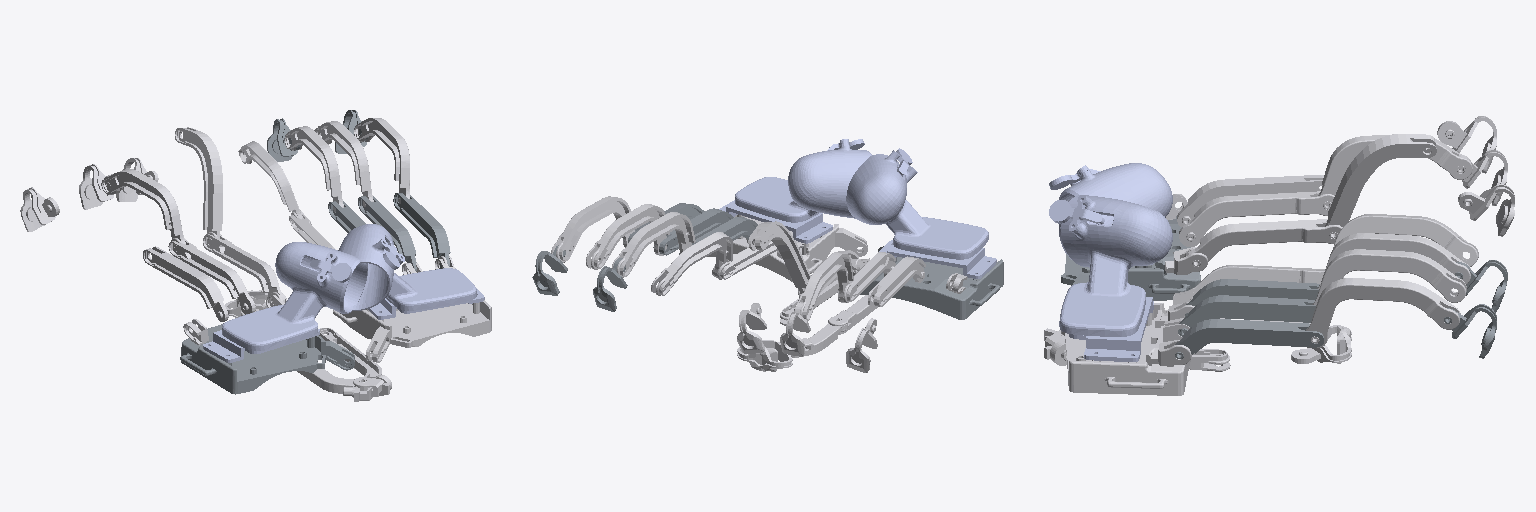
--- Render facts (derived) ---
3 views of the same robot in one strip: view 1: azimuth 30°, elevation 25°; view 2: azimuth 150°, elevation 25°; view 3: azimuth 270°, elevation 25° (orthographic).
Model skeleton_hands with 61 links and 60 joints (42 revolute, 18 fixed), rooted at base_link, posed all joints at 0.
Links seen in each view (by area): view 1: Lgamepadbase, Rgamepadbase, link_LeftSkeletonBase, link_RightSkeletonBase, link_LeftSkeletonIndex3, link_LeftSkeletonRing2, link_LeftSkeletonMiddle3, link_LeftSkeletonMiddle2, link_RightSkeletonPinky3, link_LeftSkeletonIndex2, link_RightSkeletonMiddle3, link_RightSkeletonPinky2 (+11 smaller); view 2: Lgamepadbase, Rgamepadbase, link_LeftSkeletonBase, link_RightSkeletonBase, link_RightSkeletonMiddle3, link_RightSkeletonIndex3, link_RightSkeletonRing3, link_LeftSkeletonIndex3, link_RightSkeletonPinky3, link_LeftSkeletonMiddle3, link_LeftSkeletonRing2, link_LeftSkeletonMiddle2 (+10 smaller); view 3: Rgamepadbase, link_RightSkeletonBase, Lgamepadbase, link_RightSkeletonPinky3, link_LeftSkeletonMiddle2, link_LeftSkeletonIndex3, link_RightSkeletonRing3, link_RightSkeletonPinky2, link_LeftSkeletonIndex2, link_RightSkeletonRing2, link_RightSkeletonIndex3, link_LeftSkeletonBase (+14 smaller).
Boxes of the visible links, box(x1,y1,x2,y2) form: Lgamepadbase: box(203, 242, 367, 362); Rgamepadbase: box(338, 224, 484, 319); link_LeftSkeletonBase: box(180, 324, 354, 394); link_RightSkeletonBase: box(333, 300, 491, 395); link_LeftSkeletonIndex3: box(175, 127, 222, 245); link_LeftSkeletonRing2: box(143, 246, 228, 321); link_LeftSkeletonMiddle3: box(101, 169, 185, 250); link_LeftSkeletonMiddle2: box(168, 238, 255, 314); link_RightSkeletonPinky3: box(354, 118, 409, 203); link_LeftSkeletonIndex2: box(203, 232, 284, 305); link_RightSkeletonMiddle3: box(284, 126, 343, 212); link_RightSkeletonPinky2: box(393, 193, 450, 268); Lgamepadbase: box(846, 148, 996, 278); Rgamepadbase: box(719, 139, 871, 243); link_LeftSkeletonBase: box(860, 246, 1003, 319); link_RightSkeletonBase: box(707, 214, 867, 281); link_RightSkeletonMiddle3: box(612, 212, 695, 277); link_RightSkeletonIndex3: box(651, 232, 732, 295); link_RightSkeletonRing3: box(586, 204, 669, 269); link_LeftSkeletonIndex3: box(748, 221, 810, 293); link_RightSkeletonPinky3: box(551, 196, 634, 262); link_LeftSkeletonMiddle3: box(794, 252, 853, 320); link_LeftSkeletonRing2: box(868, 256, 925, 306); link_LeftSkeletonMiddle2: box(838, 252, 895, 302); Rgamepadbase: box(1049, 195, 1172, 361); link_RightSkeletonBase: box(1050, 303, 1191, 395); Lgamepadbase: box(1049, 163, 1172, 265); link_RightSkeletonPinky3: box(1306, 278, 1460, 347); link_LeftSkeletonMiddle2: box(1179, 191, 1334, 246); link_LeftSkeletonIndex3: box(1325, 134, 1436, 238); link_RightSkeletonRing3: box(1312, 249, 1466, 304); link_RightSkeletonPinky2: box(1175, 319, 1324, 358); link_LeftSkeletonIndex2: box(1184, 219, 1342, 266); link_RightSkeletonRing2: box(1178, 295, 1315, 336); link_RightSkeletonIndex3: box(1333, 214, 1478, 278); link_LeftSkeletonBase: box(1061, 216, 1200, 300).
Size in the robot's own frame: 0.2536 by 0.2556 by 0.1235 metres.
35 mesh visuals loaded from 46 distinct referenced files (35 binary STL); not drawn: 11 (reference not matched to a file when rendering).

robot.urdf — skeleton_hands:
<?xml version='1.0' encoding='utf-8'?>
<robot name="skeleton_hands">
    
    <link name="base_link" />
    
    
    <link name="link_RightSkeletonBase">
        <visual>
        <origin xyz="0 0 0" rpy="0 0 0" />
        <geometry>
            <mesh filename="package://io_mocap/description/meshes/R_base_link.STL" />
        </geometry>
        <material name="">
            <color rgba="0.866666666666667 0.866666666666667 0.890196078431372 1" />
        </material>
        </visual>
        <collision>
        <origin xyz="0 0 0" rpy="0 0 0" />
        <geometry>
            <mesh filename="package://io_mocap/description/meshes/R_base_link.STL" />
        </geometry>
        </collision>
    <inertial>
      <origin xyz="0.00796015810167955 -0.0223806324874924 -0.00754865265348615" rpy="0 0 0" />
      <mass value="0.0381015295019329" />
      <inertia ixx="1.57718800745917E-05" ixy="6.20482209711992E-07" ixz="-6.07587294987589E-07" iyy="2.35787256108512E-05" iyz="-3.31320823452304E-07" izz="3.85148762850539E-05" />
    </inertial>
    </link>
    <link name="link_RightSkeletonThumbBase">
        <visual>
        <origin xyz="0 0 0" rpy="0 0 0" />
        <geometry>
            <mesh filename="package://io_mocap/description/meshes/R_figer1base.STL" />
        </geometry>
        <material name="">
            <color rgba="0.866666666666667 0.866666666666667 0.890196078431372 1" />
        </material>
        </visual>
        <collision>
        <origin xyz="0 0 0" rpy="0 0 0" />
        <geometry>
            <mesh filename="package://io_mocap/description/meshes/R_figer1base.STL" />
        </geometry>
        </collision>
    <inertial>
      <origin xyz="-0.00565122071301274 -0.000501255972792568 0.0144743281019806" rpy="0 0 0" />
      <mass value="0.00503517876942867" />
      <inertia ixx="3.0284978913365E-07" ixy="-4.84190552283924E-09" ixz="4.64240301448541E-08" iyy="4.03125978353386E-07" iyz="1.09069756102581E-08" izz="1.64098939217181E-07" />
    </inertial>
    </link>
    <link name="link_RightSkeletonThumb1">
        <visual>
        <origin xyz="0 0 0" rpy="0 0 0" />
        <geometry>
            <mesh filename="package://io_mocap/description/meshes/R_figer1_1.STL" />
        </geometry>
        <material name="">
            <color rgba="0.866666666666667 0.866666666666667 0.890196078431372 1" />
        </material>
        </visual>
        <collision>
        <origin xyz="0 0 0" rpy="0 0 0" />
        <geometry>
            <mesh filename="package://io_mocap/description/meshes/R_figer1_1.STL" />
        </geometry>
        </collision>
    <inertial>
      <origin xyz="0.00103307505347316 0.00184077480530574 0.00372077729598377" rpy="0 0 0" />
      <mass value="0.00142104750359472" />
      <inertia ixx="7.34398085023081E-08" ixy="-2.41328511399796E-09" ixz="-3.3240568542648E-09" iyy="4.17889579868087E-08" iyz="-1.49123152617831E-08" izz="4.72743798877277E-08" />
    </inertial>
    </link>
    <link name="link_RightSkeletonThumb2">
        <visual>
        <origin xyz="0 0 0" rpy="0 0 0" />
        <geometry>
            <mesh filename="package://io_mocap/description/meshes/R_figer1_2.STL" />
        </geometry>
        <material name="">
            <color rgba="0.866666666666667 0.866666666666667 0.890196078431372 1" />
        </material>
        </visual>
        <collision>
        <origin xyz="0 0 0" rpy="0 0 0" />
        <geometry>
            <mesh filename="package://io_mocap/description/meshes/R_figer1_2.STL" />
        </geometry>
        </collision>
    <inertial>
      <origin xyz="-0.00232322870955951 0.0181721928412631 0.0329507487373648" rpy="0 0 0" />
      <mass value="0.00619479805127885" />
      <inertia ixx="3.99788034904245E-06" ixy="-5.39381049868907E-09" ixz="3.61902852797014E-09" iyy="2.30653492100461E-06" iyz="-1.85763694879346E-06" izz="1.73763444181624E-06" />
    </inertial>
    </link>
    <link name="link_RightSkeletonThumb3">
        <visual>
        <origin xyz="0 0 0" rpy="0 0 0" />
        <geometry>
            <mesh filename="package://io_mocap/description/meshes/R_figer1_3.STL" />
        </geometry>
        <material name="">
            <color rgba="0.866666666666667 0.866666666666667 0.890196078431372 1" />
        </material>
        </visual>
        <collision>
        <origin xyz="0 0 0" rpy="0 0 0" />
        <geometry>
            <mesh filename="package://io_mocap/description/meshes/R_figer1_3.STL" />
        </geometry>
        </collision>
    <inertial>
      <origin xyz="-0.00212757980775651 0.00134841278506191 0.019940757393612" rpy="0 0 0" />
      <mass value="0.00375708793059457" />
      <inertia ixx="7.71326509106515E-07" ixy="-1.5101709953254E-09" ixz="6.67792513897098E-09" iyy="7.24505391043061E-07" iyz="-1.00538276089503E-07" izz="7.39249486010084E-08" />
    </inertial>
    </link>
    <link name="link_RightSkeletonThumb4">
        <visual>
        <origin xyz="0 0 0" rpy="0 0 0" />
        <geometry>
            <mesh filename="package://io_mocap/description/meshes/R_figer1_4.STL" />
        </geometry>
        <material name="">
            <color rgba="0.866666666666667 0.866666666666667 0.890196078431372 1" />
        </material>
        </visual>
        <collision>
        <origin xyz="0 0 0" rpy="0 0 0" />
        <geometry>
            <mesh filename="package://io_mocap/description/meshes/R_figer1_4.STL" />
        </geometry>
        </collision>
    <inertial>
      <origin xyz="-0.00269144829495772 0.00131123432438183 -0.0106491104624541" rpy="0 0 0" />
      <mass value="0.00283813885886545" />
      <inertia ixx="2.95191006974025E-07" ixy="1.71597808354591E-09" ixz="-1.5368571085107E-08" iyy="2.53523111794926E-07" iyz="4.47728143031876E-09" izz="9.65716906164859E-08" />
    </inertial>
    </link>
    <link name="link_RightSkeletonIndex1">
        <visual>
        <origin xyz="0 0 0" rpy="0 0 0" />
        <geometry>
            <mesh filename="package://io_mocap/description/meshes/R_figer2_1.STL" />
        </geometry>
        <material name="">
            <color rgba="0.866666666666667 0.866666666666667 0.890196078431372 1" />
        </material>
        </visual>
        <collision>
        <origin xyz="0 0 0" rpy="0 0 0" />
        <geometry>
            <mesh filename="package://io_mocap/description/meshes/R_figer2_1.STL" />
        </geometry>
        </collision>
    <inertial>
      <origin xyz="0.00103307504266343 0.00184077481598622 0.00372077728256266" rpy="0 0 0" />
      <mass value="0.00142104749535094" />
      <inertia ixx="7.34398089807809E-08" ixy="-2.41328507686512E-09" ixz="-3.32405672713572E-09" iyy="4.1788957914828E-08" iyz="-1.49123154155797E-08" izz="4.72743801943149E-08" />
    </inertial>
    </link>
    <link name="link_RightSkeletonIndex2">
        <visual>
        <origin xyz="0 0 0" rpy="0 0 0" />
        <geometry>
            <mesh filename="package://io_mocap/description/meshes/R_figer2_2.STL" />
        </geometry>
        <material name="">
            <color rgba="0.866666666666667 0.866666666666667 0.890196078431372 1" />
        </material>
        </visual>
        <collision>
        <origin xyz="0 0 0" rpy="0 0 0" />
        <geometry>
            <mesh filename="package://io_mocap/description/meshes/R_figer2_2.STL" />
        </geometry>
        </collision>
    <inertial>
      <origin xyz="-0.00225494995541581 0.0152388468351605 0.0296839473890663" rpy="0 0 0" />
      <mass value="0.00558495756330841" />
      <inertia ixx="2.91836620840625E-06" ixy="-4.14851984558481E-09" ixz="4.21806668429099E-09" iyy="1.74531636320502E-06" iyz="-1.32500629306026E-06" izz="1.21440970517614E-06" />
    </inertial>
    </link>
    <link name="link_RightSkeletonIndex3">
        <visual>
        <origin xyz="0 0 0" rpy="0 0 0" />
        <geometry>
            <mesh filename="package://io_mocap/description/meshes/R_figer2_3.STL" />
        </geometry>
        <material name="">
            <color rgba="0.866666666666667 0.866666666666667 0.890196078431372 1" />
        </material>
        </visual>
        <collision>
        <origin xyz="0 0 0" rpy="0 0 0" />
        <geometry>
            <mesh filename="package://io_mocap/description/meshes/R_figer2_3.STL" />
        </geometry>
        </collision>
    <inertial>
      <origin xyz="-0.00235572032002532 0.021473120708047 0.0285487191425626" rpy="0 0 0" />
      <mass value="0.00663685611795157" />
      <inertia ixx="4.2149172670233E-06" ixy="-3.2931532345881E-09" ixz="1.81725175793322E-08" iyy="1.11332596242003E-06" iyz="-1.23177219223019E-06" izz="3.14896536873041E-06" />
    </inertial>
    </link>
    <link name="link_RightSkeletonIndex4">
        <visual>
        <origin xyz="0 0 0" rpy="0 0 0" />
        <geometry>
            <mesh filename="package://io_mocap/description/meshes/R_figer2_4.STL" />
        </geometry>
        <material name="">
            <color rgba="0.866666666666667 0.866666666666667 0.890196078431372 1" />
        </material>
        </visual>
        <collision>
        <origin xyz="0 0 0" rpy="0 0 0" />
        <geometry>
            <mesh filename="package://io_mocap/description/meshes/R_figer2_4.STL" />
        </geometry>
        </collision>
    <inertial>
      <origin xyz="-0.0026914180675609 0.00131123336884371 -0.0106491162895952" rpy="0 0 0" />
      <mass value="0.00283814206573991" />
      <inertia ixx="2.95191305819849E-07" ixy="1.71594002207152E-09" ixz="-1.53679050089507E-08" iyy="2.535226738251E-07" iyz="4.47721015720482E-09" izz="9.6571438657795E-08" />
    </inertial>
    </link>
    <link name="link_RightSkeletonMiddle1">
        <visual>
        <origin xyz="0 0 0" rpy="0 0 0" />
        <geometry>
            <mesh filename="package://io_mocap/description/meshes/R_figer3_1.STL" />
        </geometry>
        <material name="">
            <color rgba="0.866666666666667 0.866666666666667 0.890196078431372 1" />
        </material>
        </visual>
        <collision>
        <origin xyz="0 0 0" rpy="0 0 0" />
        <geometry>
            <mesh filename="package://io_mocap/description/meshes/R_figer3_1.STL" />
        </geometry>
        </collision>
    <inertial>
      <origin xyz="0.00103307508570481 0.00184077478338782 0.0037207773602195" rpy="0 0 0" />
      <mass value="0.00142104751859945" />
      <inertia ixx="7.3439809623175E-08" ixy="-2.41328476584004E-09" ixz="-3.32405702526707E-09" iyy="4.17889587410191E-08" iyz="-1.49123151802322E-08" izz="4.72743806400365E-08" />
    </inertial>
    </link>
    <link name="link_RightSkeletonMiddle2">
        <visual>
        <origin xyz="0 0 0" rpy="0 0 0" />
        <geometry>
            <mesh filename="package://io_mocap/description/meshes/R_figer3_2.STL" />
        </geometry>
        <material name="">
            <color rgba="0.615686274509804 0.643137254901961 0.674509803921569 1" />
        </material>
        </visual>
        <collision>
        <origin xyz="0 0 0" rpy="0 0 0" />
        <geometry>
            <mesh filename="package://io_mocap/description/meshes/R_figer3_2.STL" />
        </geometry>
        </collision>
    <inertial>
      <origin xyz="-0.00225495233843075 0.0152388460708894 0.029683944118068" rpy="0 0 0" />
      <mass value="0.00558495686016827" />
      <inertia ixx="2.91836682320128E-06" ixy="-4.14856599032089E-09" ixz="4.21793857169474E-09" iyy="1.74531712287045E-06" iyz="-1.32500694741923E-06" izz="1.21440950221904E-06" />
    </inertial>
    </link>
    <link name="link_RightSkeletonMiddle3">
        <visual>
        <origin xyz="0 0 0" rpy="0 0 0" />
        <geometry>
            <mesh filename="package://io_mocap/description/meshes/R_figer3_3.STL" />
        </geometry>
        <material name="">
            <color rgba="0.866666666666667 0.866666666666667 0.890196078431372 1" />
        </material>
        </visual>
        <collision>
        <origin xyz="0 0 0" rpy="0 0 0" />
        <geometry>
            <mesh filename="package://io_mocap/description/meshes/R_figer3_3.STL" />
        </geometry>
        </collision>
    <inertial>
      <origin xyz="-0.00235572479349241 0.0214731366915545 0.0285487400327757" rpy="0 0 0" />
      <mass value="0.00663684957658263" />
      <inertia ixx="4.21491005720671E-06" ixy="-3.29390834910374E-09" ixz="1.8171772300357E-08" iyy="1.11332106780687E-06" iyz="-1.2317692593153E-06" izz="3.14896228623323E-06" />
    </inertial>
    </link>
    <link name="link_RightSkeletonMiddle4">
        <visual>
        <origin xyz="0 0 0" rpy="0 0 0" />
        <geometry>
            <mesh filename="package://io_mocap/description/meshes/R_figer3_4.STL" />
        </geometry>
        <material name="">
            <color rgba="0.615686274509804 0.643137254901961 0.674509803921569 1" />
        </material>
        </visual>
        <collision>
        <origin xyz="0 0 0" rpy="0 0 0" />
        <geometry>
            <mesh filename="package://io_mocap/description/meshes/R_figer3_4.STL" />
        </geometry>
        </collision>
    <inertial>
      <origin xyz="-0.00269142354774019 -0.000938576252218395 -0.0139532868338926" rpy="0 0 0" />
      <mass value="0.00283813730192772" />
      <inertia ixx="2.95191343112668E-07" ixy="1.71603422344851E-09" ixz="-1.53680591698325E-08" iyy="2.53522363104874E-07" iyz="4.47723638318037E-09" izz="9.65713727636697E-08" />
    </inertial>
    </link>
    <link name="link_RightSkeletonRing1">
        <visual>
        <origin xyz="0 0 0" rpy="0 0 0" />
        <geometry>
            <mesh filename="package://io_mocap/description/meshes/R_figer4_1.STL" />
        </geometry>
        <material name="">
            <color rgba="0.866666666666667 0.866666666666667 0.890196078431372 1" />
        </material>
        </visual>
        <collision>
        <origin xyz="0 0 0" rpy="0 0 0" />
        <geometry>
            <mesh filename="package://io_mocap/description/meshes/R_figer4_1.STL" />
        </geometry>
        </collision>
    <inertial>
      <origin xyz="0.00103307508570481 0.00184077478338781 0.0037207773602195" rpy="0 0 0" />
      <mass value="0.00142104751859945" />
      <inertia ixx="7.34398096231749E-08" ixy="-2.41328476584003E-09" ixz="-3.32405702526709E-09" iyy="4.1788958741019E-08" iyz="-1.49123151802322E-08" izz="4.72743806400364E-08" />
    </inertial>
    </link>
    <link name="link_RightSkeletonRing2">
        <visual>
        <origin xyz="0 0 0" rpy="0 0 0" />
        <geometry>
            <mesh filename="package://io_mocap/description/meshes/R_figer4_2.STL" />
        </geometry>
        <material name="">
            <color rgba="0.615686274509804 0.643137254901961 0.674509803921569 1" />
        </material>
        </visual>
        <collision>
        <origin xyz="0 0 0" rpy="0 0 0" />
        <geometry>
            <mesh filename="package://io_mocap/description/meshes/R_figer4_2.STL" />
        </geometry>
        </collision>
    <inertial>
      <origin xyz="-0.00225495233843075 0.0152388460708892 0.029683944118067" rpy="0 0 0" />
      <mass value="0.00558495686016845" />
      <inertia ixx="2.9183668263298E-06" ixy="-4.14856589933394E-09" ixz="4.21793867181136E-09" iyy="1.7453171255457E-06" iyz="-1.32500694813122E-06" izz="1.21440950270268E-06" />
    </inertial>
    </link>
    <link name="link_RightSkeletonRing3">
        <visual>
        <origin xyz="0 0 0" rpy="0 0 0" />
        <geometry>
            <mesh filename="package://io_mocap/description/meshes/R_figer4_3.STL" />
        </geometry>
        <material name="">
            <color rgba="0.866666666666667 0.866666666666667 0.890196078431372 1" />
        </material>
        </visual>
        <collision>
        <origin xyz="0 0 0" rpy="0 0 0" />
        <geometry>
            <mesh filename="package://io_mocap/description/meshes/R_figer4_3.STL" />
        </geometry>
        </collision>
    <inertial>
      <origin xyz="-0.00235572454769539 0.0214731363844119 0.0285487393993492" rpy="0 0 0" />
      <mass value="0.00663684971073181" />
      <inertia ixx="4.21491023862972E-06" ixy="-3.29387584199395E-09" ixz="1.81718097893476E-08" iyy="1.11332120740036E-06" iyz="-1.23176935213484E-06" izz="3.14896233832563E-06" />
    </inertial>
    </link>
    <link name="link_RightSkeletonRing4">
        <visual>
        <origin xyz="0 0 0" rpy="0 0 0" />
        <geometry>
            <mesh filename="package://io_mocap/description/meshes/R_figer4_4.STL" />
        </geometry>
        <material name="">
            <color rgba="0.615686274509804 0.643137254901961 0.674509803921569 1" />
        </material>
        </visual>
        <collision>
        <origin xyz="0 0 0" rpy="0 0 0" />
        <geometry>
            <mesh filename="package://io_mocap/description/meshes/R_figer4_4.STL" />
        </geometry>
        </collision>
    <inertial>
      <origin xyz="-0.00269142354774019 -0.000938576252218465 -0.0139532868338925" rpy="0 0 0" />
      <mass value="0.00283813730192769" />
      <inertia ixx="2.95191343112664E-07" ixy="1.71603422344794E-09" ixz="-1.53680591698328E-08" iyy="2.53522363104871E-07" iyz="4.47723638318119E-09" izz="9.65713727636688E-08" />
    </inertial>
    </link>
    <link name="link_RightSkeletonPinky1">
        <visual>
        <origin xyz="0 0 0" rpy="0 0 0" />
        <geometry>
            <mesh filename="package://io_mocap/description/meshes/R_figer5_1.STL" />
        </geometry>
        <material name="">
            <color rgba="0.866666666666667 0.866666666666667 0.890196078431372 1" />
        </material>
        </visual>
        <collision>
        <origin xyz="0 0 0" rpy="0 0 0" />
        <geometry>
            <mesh filename="package://io_mocap/description/meshes/R_figer5_1.STL" />
        </geometry>
        </collision>
    <inertial>
      <origin xyz="0.00103307510727016 0.0018407747681536 0.00372077739461437" rpy="0 0 0" />
      <mass value="0.00142104752949724" />
      <inertia ixx="7.34398098284156E-08" ixy="-2.41328463578981E-09" ixz="-3.32405717829616E-09" iyy="4.1788959109633E-08" iyz="-1.49123150597226E-08" izz="4.72743807982806E-08" />
    </inertial>
    </link>
    <link name="link_RightSkeletonPinky2">
        <visual>
        <origin xyz="0 0 0" rpy="0 0 0" />
        <geometry>
            <mesh filename="package://io_mocap/description/meshes/R_figer5_2.STL" />
        </geometry>
        <material name="">
            <color rgba="0.615686274509804 0.643137254901961 0.674509803921569 1" />
        </material>
        </visual>
        <collision>
        <origin xyz="0 0 0" rpy="0 0 0" />
        <geometry>
            <mesh filename="package://io_mocap/description/meshes/R_figer5_2.STL" />
        </geometry>
        </collision>
    <inertial>
      <origin xyz="-0.00225495398472628 0.0152388453344131 0.0296839389686488" rpy="0 0 0" />
      <mass value="0.0055849572264132" />
      <inertia ixx="2.9183676470236E-06" ixy="-4.14858966781097E-09" ixz="4.21787871476057E-09" iyy="1.74531806183641E-06" iyz="-1.32500756906238E-06" izz="1.21440933015917E-06" />
    </inertial>
    </link>
    <link name="link_RightSkeletonPinky3">
        <visual>
        <origin xyz="0 0 0" rpy="0 0 0" />
        <geometry>
            <mesh filename="package://io_mocap/description/meshes/R_figer5_3.STL" />
        </geometry>
        <material name="">
            <color rgba="0.866666666666667 0.866666666666667 0.890196078431372 1" />
        </material>
        </visual>
        <collision>
        <origin xyz="0 0 0" rpy="0 0 0" />
        <geometry>
            <mesh filename="package://io_mocap/description/meshes/R_figer5_3.STL" />
        </geometry>
        </collision>
    <inertial>
      <origin xyz="-0.00235572771755228 0.0214731406786556 0.0285487426831204" rpy="0 0 0" />
      <mass value="0.00663684736422184" />
      <inertia ixx="4.2149092003135E-06" ixy="-3.29427631293345E-09" ixz="1.8171488817969E-08" iyy="1.11332047704093E-06" iyz="-1.23176906960859E-06" izz="3.14896143733786E-06" />
    </inertial>
    </link>
    <link name="link_RightSkeletonPinky4">
        <visual>
        <origin xyz="0 0 0" rpy="0 0 0" />
        <geometry>
            <mesh filename="package://io_mocap/description/meshes/R_figer5_4.STL" />
        </geometry>
        <material name="">
            <color rgba="0.615686274509804 0.643137254901961 0.674509803921569 1" />
        </material>
        </visual>
        <collision>
        <origin xyz="0 0 0" rpy="0 0 0" />
        <geometry>
            <mesh filename="package://io_mocap/description/meshes/R_figer5_4.STL" />
        </geometry>
        </collision>
    <inertial>
      <origin xyz="-0.00269142161091054 0.00131124045330436 -0.0106491028537343" rpy="0 0 0" />
      <mass value="0.0028381369220279" />
      <inertia ixx="2.95191404600699E-07" ixy="1.71593490047463E-09" ixz="-1.53680891113599E-08" iyy="2.53522400439724E-07" iyz="4.47736013107046E-09" izz="9.65714677930946E-08" />
    </inertial>
    </link>

    
    <link name="link_LeftSkeletonBase">
        <visual>
        <origin xyz="0 0 0" rpy="0 0 0" />
        <geometry>
            <mesh filename="package://io_mocap/description/meshes/L_base_link.STL" />
        </geometry>
        <material name="">
            <color rgba="0.615686274509804 0.643137254901961 0.674509803921569 1" />
        </material>
        </visual>
        <collision>
        <origin xyz="0 0 0" rpy="0 0 0" />
        <geometry>
            <mesh filename="package://io_mocap/description/meshes/L_base_link.STL" />
        </geometry>
        </collision>
    <inertial>
      <origin xyz="-0.00795971826189585 -0.0223786822134 -0.00754886924823978" rpy="0 0 0" />
      <mass value="0.0381033782864806" />
      <inertia ixx="1.57715027656341E-05" ixy="-6.20672688310259E-07" ixz="6.07301367718693E-07" iyy="2.35777844365302E-05" iyz="-3.31185265424762E-07" izz="3.85136702094599E-05" />
    </inertial>
    </link>
    <link name="link_LeftSkeletonThumbBase">
        <visual>
        <origin xyz="0 0 0" rpy="0 0 0" />
        <geometry>
            <mesh filename="package://io_mocap/description/meshes/L_figer1base.STL" />
        </geometry>
        <material name="">
            <color rgba="0.792156862745098 0.819607843137255 0.933333333333333 1" />
        </material>
        </visual>
        <collision>
        <origin xyz="0 0 0" rpy="0 0 0" />
        <geometry>
            <mesh filename="package://io_mocap/description/meshes/L_figer1base.STL" />
        </geometry>
        </collision>
    <inertial>
      <origin xyz="-0.00565122125132897 -0.000501255807949387 -0.0144743297760789" rpy="0 0 0" />
      <mass value="0.00503517796554752" />
      <inertia ixx="3.02849721330865E-07" ixy="-4.84190547312495E-09" ixz="-4.64239909926053E-08" iyy="4.03125891253508E-07" iyz="-1.09069982752038E-08" izz="1.64098935188539E-07" />
    </inertial>
    </link>
    <link name="link_LeftSkeletonThumb1">
        <visual>
        <origin xyz="0 0 0" rpy="0 0 0" />
        <geometry>
            <mesh filename="package://io_mocap/description/meshes/L_figer1_1.STL" />
        </geometry>
        <material name="">
            <color rgba="0.866666666666667 0.866666666666667 0.890196078431372 1" />
        </material>
        </visual>
        <collision>
        <origin xyz="0 0 0" rpy="0 0 0" />
        <geometry>
            <mesh filename="package://io_mocap/description/meshes/L_figer1_1.STL" />
        </geometry>
        </collision>
    <inertial>
      <origin xyz="0.00103307505347319 0.00184077480530568 0.00372077729598363" rpy="0 0 0" />
      <mass value="0.00142104750359472" />
      <inertia ixx="7.34398085023082E-08" ixy="-2.41328511399795E-09" ixz="-3.32405685426481E-09" iyy="4.17889579868088E-08" iyz="-1.49123152617831E-08" izz="4.72743798877278E-08" />
    </inertial>
    </link>
    <link name="link_LeftSkeletonThumb2">
        <visual>
        <origin xyz="0 0 0" rpy="0 0 0" />
        <geometry>
            <mesh filename="package://io_mocap/description/meshes/L_figer1_2.STL" />
        </geometry>
        <material name="">
            <color rgba="0.866666666666667 0.866666666666667 0.890196078431372 1" />
        </material>
        </visual>
        <collision>
        <origin xyz="0 0 0" rpy="0 0 0" />
        <geometry>
            <mesh filename="package://io_mocap/description/meshes/L_figer1_2.STL" />
        </geometry>
        </collision>
    <inertial>
      <origin xyz="-0.00232322870955949 0.0181721928412632 0.0329507487373656" rpy="0 0 0" />
      <mass value="0.00619479805127877" />
      <inertia ixx="3.99788034854978E-06" ixy="-5.39381049615914E-09" ixz="3.61902852100043E-09" iyy="2.30653492179191E-06" iyz="-1.85763694836304E-06" izz="1.73763444053624E-06" />
    </inertial>
    </link>
    <link name="link_LeftSkeletonThumb3">
        <visual>
        <origin xyz="0 0 0" rpy="0 0 0" />
        <geometry>
            <mesh filename="package://io_mocap/description/meshes/L_figer1_3.STL" />
        </geometry>
        <material name="">
            <color rgba="0.866666666666667 0.866666666666667 0.890196078431372 1" />
        </material>
        </visual>
        <collision>
        <origin xyz="0 0 0" rpy="0 0 0" />
        <geometry>
            <mesh filename="package://io_mocap/description/meshes/L_figer1_3.STL" />
        </geometry>
        </collision>
    <inertial>
      <origin xyz="-0.00212757993564025 0.00134841281276385 0.0199407577558663" rpy="0 0 0" />
      <mass value="0.00375708785451946" />
      <inertia ixx="7.71326480727341E-07" ixy="-1.51017237583647E-09" ixz="6.67791712324156E-09" iyy="7.24505359944446E-07" iyz="-1.00538270710119E-07" izz="7.39249458745912E-08" />
    </inertial>
    </link>
    <link name="link_LeftSkeletonThumb4">
        <visual>
        <origin xyz="0 0 0" rpy="0 0 0" />
        <geometry>
            <mesh filename="package://io_mocap/description/meshes/L_figer1_4.STL" />
        </geometry>
        <material name="">
            <color rgba="0.866666666666667 0.866666666666667 0.890196078431372 1" />
        </material>
        </visual>
        <collision>
        <origin xyz="0 0 0" rpy="0 0 0" />
        <geometry>
            <mesh filename="package://io_mocap/description/meshes/L_figer1_4.STL" />
        </geometry>
        </collision>
    <inertial>
      <origin xyz="-0.00269144829495786 0.00131123432438181 -0.0106491104624541" rpy="0 0 0" />
      <mass value="0.00283813885886545" />
      <inertia ixx="2.95191006974024E-07" ixy="1.715978083546E-09" ixz="-1.53685710851065E-08" iyy="2.53523111794926E-07" iyz="4.47728143031873E-09" izz="9.65716906164854E-08" />
    </inertial>
    </link>
    <link name="link_LeftSkeletonIndex1">
        <visual>
        <origin xyz="0 0 0" rpy="0 0 0" />
        <geometry>
            <mesh filename="package://io_mocap/description/meshes/L_figer2_1.STL" />
        </geometry>
        <material name="">
            <color rgba="0.866666666666667 0.866666666666667 0.890196078431372 1" />
        </material>
        </visual>
        <collision>
        <origin xyz="0 0 0" rpy="0 0 0" />
        <geometry>
            <mesh filename="package://io_mocap/description/meshes/L_figer2_1.STL" />
        </geometry>
        </collision>
    <inertial>
      <origin xyz="0.00103307509026819 0.00184077478079219 0.00372077737035408" rpy="0 0 0" />
      <mass value="0.00142104752116292" />
      <inertia ixx="7.34398097705605E-08" ixy="-2.41328471829701E-09" ixz="-3.32405704960183E-09" iyy="4.17889588569522E-08" iyz="-1.49123151713754E-08" izz="4.7274380734949E-08" />
    </inertial>
    </link>
    <link name="link_LeftSkeletonIndex2">
        <visual>
        <origin xyz="0 0 0" rpy="0 0 0" />
        <geometry>
            <mesh filename="package://io_mocap/description/meshes/L_figer2_2.STL" />
        </geometry>
        <material name="">
            <color rgba="0.866666666666667 0.866666666666667 0.890196078431372 1" />
        </material>
        </visual>
        <collision>
        <origin xyz="0 0 0" rpy="0 0 0" />
        <geometry>
            <mesh filename="package://io_mocap/description/meshes/L_figer2_2.STL" />
        </geometry>
        </collision>
    <inertial>
      <origin xyz="-0.00225495196610019 0.0152388465015396 0.0296839471721429" rpy="0 0 0" />
      <mass value="0.00558495597861908" />
      <inertia ixx="2.91836638778982E-06" ixy="-4.14856306465521E-09" ixz="4.21794456616969E-09" iyy="1.74531664665666E-06" iyz="-1.32500667567509E-06" izz="1.21440955407491E-06" />
    </inertial>
    </link>
    <link name="link_LeftSkeletonIndex3">
        <visual>
        <origin xyz="0 0 0" rpy="0 0 0" />
        <geometry>
            <mesh filename="package://io_mocap/description/meshes/L_figer2_3.STL" />
        </geometry>
        <material name="">
            <color rgba="0.866666666666667 0.866666666666667 0.890196078431372 1" />
        </material>
        </visual>
        <collision>
        <origin xyz="0 0 0" rpy="0 0 0" />
        <geometry>
            <mesh filename="package://io_mocap/description/meshes/L_figer2_3.STL" />
        </geometry>
        </collision>
    <inertial>
      <origin xyz="-0.00235571534919174 0.0214730659761306 0.0285487030071992" rpy="0 0 0" />
      <mass value="0.00663689292635733" />
      <inertia ixx="4.21492012071515E-06" ixy="-3.29363285361801E-09" ixz="1.81727320848805E-08" iyy="1.11332144347172E-06" iyz="-1.23177645824186E-06" izz="3.14896956323261E-06" />
    </inertial>
    </link>
    <link name="link_LeftSkeletonIndex4">
        <visual>
        <origin xyz="0 0 0" rpy="0 0 0" />
        <geometry>
            <mesh filename="package://io_mocap/description/meshes/L_figer2_4.STL" />
        </geometry>
        <material name="">
            <color rgba="0.866666666666667 0.866666666666667 0.890196078431372 1" />
        </material>
        </visual>
        <collision>
        <origin xyz="0 0 0" rpy="0 0 0" />
        <geometry>
            <mesh filename="package://io_mocap/description/meshes/L_figer2_4.STL" />
        </geometry>
        </collision>
    <inertial>
      <origin xyz="-0.00269142139243032 0.00131119366606559 -0.0106491009653354" rpy="0 0 0" />
      <mass value="0.00283813624759799" />
      <inertia ixx="2.951912997642E-07" ixy="1.71678009357066E-09" ixz="-1.5368007180772E-08" iyy="2.53522873664869E-07" iyz="4.47648334924128E-09" izz="9.65716410018517E-08" />
    </inertial>
    </link>
    <link name="link_LeftSkeletonMiddle1">
        <visual>
        <origin xyz="0 0 0" rpy="0 0 0" />
        <geometry>
            <mesh filename="package://io_mocap/description/meshes/L_figer3_1.STL" />
        </geometry>
        <material name="">
            <color rgba="0.866666666666667 0.866666666666667 0.890196078431372 1" />
        </material>
        </visual>
        <collision>
        <origin xyz="0 0 0" rpy="0 0 0" />
        <geometry>
            <mesh filename="package://io_mocap/description/meshes/L_figer3_1.STL" />
        </geometry>
        </collision>
    <inertial>
      <origin xyz="0.00103307506943234 0.00184077479664554 0.00372077733726794" rpy="0 0 0" />
      <mass value="0.00142104751099454" />
      <inertia ixx="7.34398095058843E-08" ixy="-2.413284858295E-09" ixz="-3.3240569053412E-09" iyy="4.17889585025189E-08" iyz="-1.49123152884824E-08" izz="4.7274380532837E-08" />
    </inertial>
    </link>
    <link name="link_LeftSkeletonMiddle2">
        <visual>
        <origin xyz="0 0 0" rpy="0 0 0" />
        <geometry>
            <mesh filename="package://io_mocap/description/meshes/L_figer3_2.STL" />
        </geometry>
        <material name="">
            <color rgba="0.866666666666667 0.866666666666667 0.890196078431372 1" />
        </material>
        </visual>
        <collision>
        <origin xyz="0 0 0" rpy="0 0 0" />
        <geometry>
            <mesh filename="package://io_mocap/description/meshes/L_figer3_2.STL" />
        </geometry>
        </collision>
    <inertial>
      <origin xyz="-0.00225495044703111 0.015238847203026 0.0296839510031334" rpy="0 0 0" />
      <mass value="0.00558495571115789" />
      <inertia ixx="2.91836576376808E-06" ixy="-4.14853801417219E-09" ixz="4.21801887014206E-09" iyy="1.74531591715227E-06" iyz="-1.32500615370565E-06" izz="1.21440969393698E-06" />
    </inertial>
    </link>
    <link name="link_LeftSkeletonMiddle3">
        <visual>
        <origin xyz="0 0 0" rpy="0 0 0" />
        <geometry>
            <mesh filename="package://io_mocap/description/meshes/L_figer3_3.STL" />
        </geometry>
        <material name="">
            <color rgba="0.866666666666667 0.866666666666667 0.890196078431372 1" />
        </material>
        </visual>
        <collision>
        <origin xyz="0 0 0" rpy="0 0 0" />
        <geometry>
            <mesh filename="package://io_mocap/description/meshes/L_figer3_3.STL" />
        </geometry>
        </collision>
    <inertial>
      <origin xyz="-0.00235575036042073 0.0214732052026604 0.0285488068489457" rpy="0 0 0" />
      <mass value="0.00663681790738949" />
      <inertia ixx="4.21488667292334E-06" ixy="-3.29755585159406E-09" ixz="1.8169244364376E-08" iyy="1.11330618522731E-06" iyz="-1.23176105112002E-06" izz="3.14894885124307E-06" />
    </inertial>
    </link>
    <link name="link_LeftSkeletonMiddle4">
        <visual>
        <origin xyz="0 0 0" rpy="0 0 0" />
        <geometry>
            <mesh filename="package://io_mocap/description/meshes/L_figer3_4.STL" />
        </geometry>
        <material name="">
            <color rgba="0.866666666666667 0.866666666666667 0.890196078431372 1" />
        </material>
        </visual>
        <collision>
        <origin xyz="0 0 0" rpy="0 0 0" />
        <geometry>
            <mesh filename="package://io_mocap/description/meshes/L_figer3_4.STL" />
        </geometry>
        </collision>
    <inertial>
      <origin xyz="-0.00269143985186518 0.00131123900117359 -0.0106491096397188" rpy="0 0 0" />
      <mass value="0.00283814024815753" />
      <inertia ixx="2.95191093276479E-07" ixy="1.71570093387614E-09" ixz="-1.53684896368711E-08" iyy="2.53523011704854E-07" iyz="4.47743478896999E-09" izz="9.65718896046615E-08" />
    </inertial>
    </link>
    <link name="link_LeftSkeletonRing1">
        <visual>
        <origin xyz="0 0 0" rpy="0 0 0" />
        <geometry>
            <mesh filename="package://io_mocap/description/meshes/L_figer4_1.STL" />
        </geometry>
        <material name="">
            <color rgba="0.866666666666667 0.866666666666667 0.890196078431372 1" />
        </material>
        </visual>
        <collision>
        <origin xyz="0 0 0" rpy="0 0 0" />
        <geometry>
            <mesh filename="package://io_mocap/description/meshes/L_figer4_1.STL" />
        </geometry>
        </collision>
    <inertial>
      <origin xyz="0.00103307506943234 0.00184077479664554 0.00372077733726793" rpy="0 0 0" />
      <mass value="0.00142104751099453" />
      <inertia ixx="7.34398095058843E-08" ixy="-2.413284858295E-09" ixz="-3.32405690534121E-09" iyy="4.17889585025189E-08" iyz="-1.49123152884824E-08" izz="4.7274380532837E-08" />
    </inertial>
    </link>
    <link name="link_LeftSkeletonRing2">
        <visual>
        <origin xyz="0 0 0" rpy="0 0 0" />
        <geometry>
            <mesh filename="package://io_mocap/description/meshes/L_figer4_2.STL" />
        </geometry>
        <material name="">
            <color rgba="0.866666666666667 0.866666666666667 0.890196078431372 1" />
        </material>
        </visual>
        <collision>
        <origin xyz="0 0 0" rpy="0 0 0" />
        <geometry>
            <mesh filename="package://io_mocap/description/meshes/L_figer4_2.STL" />
        </geometry>
        </collision>
    <inertial>
      <origin xyz="-0.00225495044703106 0.0152388472030259 0.029683951003133" rpy="0 0 0" />
      <mass value="0.00558495571115816" />
      <inertia ixx="2.91836576375482E-06" ixy="-4.14853811090769E-09" ixz="4.21801880889743E-09" iyy="1.74531591777441E-06" iyz="-1.32500615504142E-06" izz="1.21440969333159E-06" />
    </inertial>
    </link>
    <link name="link_LeftSkeletonRing3">
        <visual>
        <origin xyz="0 0 0" rpy="0 0 0" />
        <geometry>
            <mesh filename="package://io_mocap/description/meshes/L_figer4_3.STL" />
        </geometry>
        <material name="">
            <color rgba="0.866666666666667 0.866666666666667 0.890196078431372 1" />
        </material>
        </visual>
        <collision>
        <origin xyz="0 0 0" rpy="0 0 0" />
        <geometry>
            <mesh filename="package://io_mocap/description/meshes/L_figer4_3.STL" />
        </geometry>
        </collision>
    <inertial>
      <origin xyz="-0.00235575036042072 0.0214732052026591 0.0285488068489463" rpy="0 0 0" />
      <mass value="0.00663681790738944" />
      <inertia ixx="4.21488666888122E-06" ixy="-3.29755568884729E-09" ixz="1.81692444753661E-08" iyy="1.11330618321482E-06" iyz="-1.23176105206024E-06" izz="3.14894884915112E-06" />
    </inertial>
    </link>
    <link name="link_LeftSkeletonRing4">
        <visual>
        <origin xyz="0 0 0" rpy="0 0 0" />
        <geometry>
            <mesh filename="package://io_mocap/description/meshes/L_figer4_4.STL" />
        </geometry>
        <material name="">
            <color rgba="0.866666666666667 0.866666666666667 0.890196078431372 1" />
        </material>
        </visual>
        <collision>
        <origin xyz="0 0 0" rpy="0 0 0" />
        <geometry>
            <mesh filename="package://io_mocap/description/meshes/L_figer4_4.STL" />
        </geometry>
        </collision>
    <inertial>
      <origin xyz="-0.00269143985186522 0.00131123900117358 -0.010649109639719" rpy="0 0 0" />
      <mass value="0.00283814024815758" />
      <inertia ixx="2.95191093276484E-07" ixy="1.71570093387564E-09" ixz="-1.53684896368724E-08" iyy="2.53523011704858E-07" iyz="4.4774347889687E-09" izz="9.65718896046638E-08" />
    </inertial>
    </link>
    <link name="link_LeftSkeletonPinky1">
        <visual>
        <origin xyz="0 0 0" rpy="0 0 0" />
        <geometry>
            <mesh filename="package://io_mocap/description/meshes/L_figer5_1.STL" />
        </geometry>
        <material name="">
            <color rgba="0.866666666666667 0.866666666666667 0.890196078431372 1" />
        </material>
        </visual>
        <collision>
        <origin xyz="0 0 0" rpy="0 0 0" />
        <geometry>
            <mesh filename="package://io_mocap/description/meshes/L_figer5_1.STL" />
        </geometry>
        </collision>
    <inertial>
      <origin xyz="0.00103307504563986 0.00184077481534127 0.00372077729595737" rpy="0 0 0" />
      <mass value="0.00142104749852734" />
      <inertia ixx="7.34398091643881E-08" ixy="-2.41328502755941E-09" ixz="-3.32405673881618E-09" iyy="4.17889580664544E-08" iyz="-1.49123154253083E-08" izz="4.72743802888997E-08" />
    </inertial>
    </link>
    <link name="link_LeftSkeletonPinky2">
        <visual>
        <origin xyz="0 0 0" rpy="0 0 0" />
        <geometry>
            <mesh filename="package://io_mocap/description/meshes/L_figer5_2.STL" />
        </geometry>
        <material name="">
            <color rgba="0.866666666666667 0.866666666666667 0.890196078431372 1" />
        </material>
        </visual>
        <collision>
        <origin xyz="0 0 0" rpy="0 0 0" />
        <geometry>
            <mesh filename="package://io_mocap/description/meshes/L_figer5_2.STL" />
        </geometry>
        </collision>
    <inertial>
      <origin xyz="-0.00225495048675595 0.0152388470456515 0.0296839486862967" rpy="0 0 0" />
      <mass value="0.00558495640568594" />
      <inertia ixx="2.91836608158061E-06" ixy="-4.14853379397085E-09" ixz="4.21802965573986E-09" iyy="1.74531625324304E-06" iyz="-1.32500629125066E-06" izz="1.21440967547373E-06" />
    </inertial>
    </link>
    <link name="link_LeftSkeletonPinky3">
        <visual>
        <origin xyz="0 0 0" rpy="0 0 0" />
        <geometry>
            <mesh filename="package://io_mocap/description/meshes/L_figer5_3.STL" />
        </geometry>
        <material name="">
            <color rgba="0.866666666666667 0.866666666666667 0.890196078431372 1" />
        </material>
        </visual>
        <collision>
        <origin xyz="0 0 0" rpy="0 0 0" />
        <geometry>
            <mesh filename="package://io_mocap/description/meshes/L_figer5_3.STL" />
        </geometry>
        </collision>
    <inertial>
      <origin xyz="-0.00235576376837485 0.0214732139844029 0.0285488335633921" rpy="0 0 0" />
      <mass value="0.00663681351825927" />
      <inertia ixx="4.21487885442923E-06" ixy="-3.29902839678352E-09" ixz="1.8166501453508E-08" iyy="1.11329897328873E-06" iyz="-1.23175774928956E-06" izz="3.14894672413315E-06" />
    </inertial>
    </link>
    <link name="link_LeftSkeletonPinky4">
        <visual>
        <origin xyz="0 0 0" rpy="0 0 0" />
        <geometry>
            <mesh filename="package://io_mocap/description/meshes/L_figer5_4.STL" />
        </geometry>
        <material name="">
            <color rgba="0.866666666666667 0.866666666666667 0.890196078431372 1" />
        </material>
        </visual>
        <collision>
        <origin xyz="0 0 0" rpy="0 0 0" />
        <geometry>
            <mesh filename="package://io_mocap/description/meshes/L_figer5_4.STL" />
        </geometry>
        </collision>
    <inertial>
      <origin xyz="-0.00269142147355608 0.00131124179778838 -0.0106491029625067" rpy="0 0 0" />
      <mass value="0.00283813750198794" />
      <inertia ixx="2.9519141935042E-07" ixy="1.71585604436604E-09" ixz="-1.53681173379396E-08" iyy="2.5352240055643E-07" iyz="4.47741719154892E-09" izz="9.65715578191067E-08" />
    </inertial>
    </link>

    
    <link name="right_thumb_tip" />
    <link name="right_index_tip" />
    <link name="right_middle_tip" />
    <link name="right_ring_tip" />
    <link name="right_pinky_tip" />
    <link name="left_thumb_tip" />
    <link name="left_index_tip" />
    <link name="left_middle_tip" />
    <link name="left_ring_tip" />
    <link name="left_pinky_tip" />
    <link name="right_hand" />
    <link name="left_hand" />

    
    <joint name="joint_RightSkeletonBase" type="fixed">
        <parent link="base_link" />
        <child link="link_RightSkeletonBase" />
        <origin xyz="0.05 0 0" rpy="0 0 0" />
    </joint>
    
    <joint name="joint_LeftSkeletonBase" type="fixed">
        <parent link="base_link" />
        <child link="link_LeftSkeletonBase" />
        <origin xyz="-0.05 0 0" rpy="0 0 0" />
    </joint>

    
    <joint name="joint_RightSkeletonThumbBase" type="revolute">
        <origin xyz="-0.040042 -0.053331 -0.015" rpy="3.1416 0 2.1472" />
    <parent link="link_RightSkeletonBase" />
    <child link="link_RightSkeletonThumbBase" />
    <axis xyz="1 0 0" />
    <limit lower="-3.14" upper="3.14" effort="100" velocity="1" />
  </joint>
    <joint name="joint_RightSkeletonThumb1" type="revolute">
        <origin xyz="-0.0072 -0.006 0.0195" rpy="1.5708 1.5708 0" />
    <parent link="link_RightSkeletonThumbBase" />
    <child link="link_RightSkeletonThumb1" />
    <axis xyz="0 0 1" />
    <limit lower="-3.14" upper="3.14" effort="100" velocity="1" />
  </joint>
    <joint name="joint_RightSkeletonThumb2" type="revolute">
        <origin xyz="0.0036 0.0074761 0.0074414" rpy="-1.309 0 0" />
    <parent link="link_RightSkeletonThumb1" />
    <child link="link_RightSkeletonThumb2" />
    <axis xyz="1 0 0" />
    <limit lower="-3.14" upper="3.14" effort="100" velocity="1" />
  </joint>
    <joint name="joint_RightSkeletonThumb3" type="revolute">
        <origin xyz="0 0.050552 0.068334" rpy="-0.81433 0 0" />
    <parent link="link_RightSkeletonThumb2" />
    <child link="link_RightSkeletonThumb3" />
    <axis xyz="1 0 0" />
    <limit lower="-3.14" upper="3.14" effort="100" velocity="1" />
  </joint>
    <joint name="joint_RightSkeletonThumb4" type="revolute">
        <origin xyz="0 0.0080746 0.045794" rpy="2.5307 0 0" />
    <parent link="link_RightSkeletonThumb3" />
    <child link="link_RightSkeletonThumb4" />
    <axis xyz="1 0 0" />
    <limit lower="0" upper="0" effort="0" velocity="0" />
  </joint>
    <joint name="joint_RightSkeletonIndex1" type="revolute">
        <origin xyz="-0.021871 0.0026351 -0.0024377" rpy="0 -0.2618 -0.1199" />
    <parent link="link_RightSkeletonBase" />
    <child link="link_RightSkeletonIndex1" />
    <axis xyz="0 0 1" />
    <limit lower="0" upper="0" effort="0" velocity="0" />
  </joint>
    <joint name="joint_RightSkeletonIndex2" type="revolute">
        <origin xyz="0.0036 0.0074761 0.0074414" rpy="-0.75647 0 0" />
    <parent link="link_RightSkeletonIndex1" />
    <child link="link_RightSkeletonIndex2" />
    <axis xyz="1 0 0" />
    <limit lower="0" upper="0" effort="0" velocity="0" />
  </joint>
    <joint name="joint_RightSkeletonIndex3" type="revolute">
        <origin xyz="0 0.043889 0.062046" rpy="0.46849 0 0" />
    <parent link="link_RightSkeletonIndex2" />
    <child link="link_RightSkeletonIndex3" />
    <axis xyz="1 0 0" />
    <limit lower="0" upper="0" effort="0" velocity="0" />
  </joint>
    <joint name="joint_RightSkeletonIndex4" type="revolute">
        <origin xyz="0 0.064952 0.0375" rpy="1.2217 0 0" />
    <parent link="link_RightSkeletonIndex3" />
    <child link="link_RightSkeletonIndex4" />
    <axis xyz="1 0 0" />
    <limit lower="0" upper="0" effort="0" velocity="0" />
  </joint>
    <joint name="joint_RightSkeletonMiddle1" type="revolute">
        <origin xyz="0 0 0.0005" rpy="0 0 -0.1199" />
    <parent link="link_RightSkeletonBase" />
    <child link="link_RightSkeletonMiddle1" />
    <axis xyz="0 0 1" />
    <limit lower="0" upper="0" effort="0" velocity="0" />
  </joint>
    <joint name="joint_RightSkeletonMiddle2" type="revolute">
        <origin xyz="0.0036 0.0074761 0.0074414" rpy="-0.75647 0 0" />
    <parent link="link_RightSkeletonMiddle1" />
    <child link="link_RightSkeletonMiddle2" />
    <axis xyz="1 0 0" />
    <limit lower="0" upper="0" effort="0" velocity="0" />
  </joint>
    <joint name="joint_RightSkeletonMiddle3" type="revolute">
        <origin xyz="0 0.043889 0.062046" rpy="0.46849 0 0" />
    <parent link="link_RightSkeletonMiddle2" />
    <child link="link_RightSkeletonMiddle3" />
    <axis xyz="1 0 0" />
    <limit lower="0" upper="0" effort="0" velocity="0" />
  </joint>
    <joint name="joint_RightSkeletonMiddle4" type="revolute">
        <origin xyz="0 0.062616 0.040744" rpy="1.2217 0 0" />
    <parent link="link_RightSkeletonMiddle3" />
    <child link="link_RightSkeletonMiddle4" />
    <axis xyz="1 0 0" />
    <limit lower="0" upper="0" effort="0" velocity="0" />
  </joint>
    <joint name="joint_RightSkeletonRing1" type="revolute">
        <origin xyz="0.020849 -0.002512 0.0005" rpy="0 0 -0.1199" />
    <parent link="link_RightSkeletonBase" />
    <child link="link_RightSkeletonRing1" />
    <axis xyz="0 0 1" />
    <limit lower="0" upper="0" effort="0" velocity="0" />
  </joint>
    <joint name="joint_RightSkeletonRing2" type="revolute">
        <origin xyz="0.0036 0.0074761 0.0074414" rpy="-0.75647 0 0" />
    <parent link="link_RightSkeletonRing1" />
    <child link="link_RightSkeletonRing2" />
    <axis xyz="1 0 0" />
    <limit lower="0" upper="0" effort="0" velocity="0" />
  </joint>
    <joint name="joint_RightSkeletonRing3" type="revolute">
        <origin xyz="0 0.043889 0.062046" rpy="0.46849 0 0" />
    <parent link="link_RightSkeletonRing2" />
    <child link="link_RightSkeletonRing3" />
    <axis xyz="1 0 0" />
    <limit lower="0" upper="0" effort="0" velocity="0" />
  </joint>
    <joint name="joint_RightSkeletonRing4" type="revolute">
        <origin xyz="0 0.062616 0.040744" rpy="1.2217 0 0" />
    <parent link="link_RightSkeletonRing3" />
    <child link="link_RightSkeletonRing4" />
    <axis xyz="1 0 0" />
    <limit lower="0" upper="0" effort="0" velocity="0" />
  </joint>
    <joint name="joint_RightSkeletonPinky1" type="revolute">
        <origin xyz="0.042036 -0.0050645 -0.0016681" rpy="0 0.17453 -0.1199" />
    <parent link="link_RightSkeletonBase" />
    <child link="link_RightSkeletonPinky1" />
    <axis xyz="0 0 1" />
    <limit lower="0" upper="0" effort="0" velocity="0" />
  </joint>
    <joint name="joint_RightSkeletonPinky2" type="revolute">
        <origin xyz="0.0036 0.0074761 0.0074414" rpy="-0.75647 0 0" />
    <parent link="link_RightSkeletonPinky1" />
    <child link="link_RightSkeletonPinky2" />
    <axis xyz="1 0 0" />
    <limit lower="0" upper="0" effort="0" velocity="0" />
  </joint>
    <joint name="joint_RightSkeletonPinky3" type="revolute">
        <origin xyz="0 0.043889 0.062046" rpy="0.46849 0 0" />
    <parent link="link_RightSkeletonPinky2" />
    <child link="link_RightSkeletonPinky3" />
    <axis xyz="1 0 0" />
    <limit lower="0" upper="0" effort="0" velocity="0" />
  </joint>
    <joint name="joint_RightSkeletonPinky4" type="revolute">
        <origin xyz="0 0.064952 0.0375" rpy="1.2217 0 0" />
    <parent link="link_RightSkeletonPinky3" />
    <child link="link_RightSkeletonPinky4" />
    <axis xyz="1 0 0" />
    <limit lower="0" upper="0" effort="0" velocity="0" />
  </joint>

    
    <joint name="joint_LeftSkeletonThumbBase" type="revolute">
        <origin xyz="0.040042 -0.053331 -0.015" rpy="0 0 0.99442" />
    <parent link="link_LeftSkeletonBase" />
    <child link="link_LeftSkeletonThumbBase" />
    <axis xyz="1 0 0" />
    <limit lower="0" upper="0" effort="0" velocity="0" />
  </joint>
    <joint name="joint_LeftSkeletonThumb1" type="revolute">
        <origin xyz="-0.0072 -0.006 -0.0195" rpy="1.5708 1.5708 0" />
    <parent link="link_LeftSkeletonThumbBase" />
    <child link="link_LeftSkeletonThumb1" />
    <axis xyz="0 0 1" />
    <limit lower="0" upper="0" effort="0" velocity="0" />
  </joint>
    <joint name="joint_LeftSkeletonThumb2" type="revolute">
        <origin xyz="0.0036 0.0074761 0.0074414" rpy="-1.309 0 0" />
    <parent link="link_LeftSkeletonThumb1" />
    <child link="link_LeftSkeletonThumb2" />
    <axis xyz="1 0 0" />
    <limit lower="0" upper="0" effort="0" velocity="0" />
  </joint>
    <joint name="joint_LeftSkeletonThumb3" type="revolute">
        <origin xyz="0 0.050552 0.068334" rpy="-0.81433 0 0" />
    <parent link="link_LeftSkeletonThumb2" />
    <child link="link_LeftSkeletonThumb3" />
    <axis xyz="1 0 0" />
    <limit lower="0" upper="0" effort="0" velocity="0" />
  </joint>
    <joint name="joint_LeftSkeletonThumb4" type="revolute">
        <origin xyz="0 0.0080746 0.045794" rpy="2.5307 0 0" />
    <parent link="link_LeftSkeletonThumb3" />
    <child link="link_LeftSkeletonThumb4" />
    <axis xyz="1 0 0" />
    <limit lower="0" upper="0" effort="0" velocity="0" />
  </joint>
    <joint name="joint_LeftSkeletonIndex1" type="revolute">
        <origin xyz="0.021871 0.0026351 -0.0024377" rpy="0 0.2618 0.1199" />
    <parent link="link_LeftSkeletonBase" />
    <child link="link_LeftSkeletonIndex1" />
    <axis xyz="0 0 1" />
    <limit lower="0" upper="0" effort="0" velocity="0" />
  </joint>
    <joint name="joint_LeftSkeletonIndex2" type="revolute">
        <origin xyz="0.0036 0.0074761 0.0074414" rpy="-0.75647 0 0" />
    <parent link="link_LeftSkeletonIndex1" />
    <child link="link_LeftSkeletonIndex2" />
    <axis xyz="1 0 0" />
    <limit lower="0" upper="0" effort="0" velocity="0" />
  </joint>
    <joint name="joint_LeftSkeletonIndex3" type="revolute">
        <origin xyz="0 0.043889 0.062046" rpy="0.46849 0 0" />
    <parent link="link_LeftSkeletonIndex2" />
    <child link="link_LeftSkeletonIndex3" />
    <axis xyz="1 0 0" />
    <limit lower="0" upper="0" effort="0" velocity="0" />
  </joint>
    <joint name="joint_LeftSkeletonIndex4" type="revolute">
        <origin xyz="0 0.064952 0.0375" rpy="1.2217 0 0" />
    <parent link="link_LeftSkeletonIndex3" />
    <child link="link_LeftSkeletonIndex4" />
    <axis xyz="1 0 0" />
    <limit lower="0" upper="0" effort="0" velocity="0" />
  </joint>
    <joint name="joint_LeftSkeletonMiddle1" type="revolute">
        <origin xyz="0 0 0.0005" rpy="0 0 0.1199" />
    <parent link="link_LeftSkeletonBase" />
    <child link="link_LeftSkeletonMiddle1" />
    <axis xyz="0 0 1" />
    <limit lower="0" upper="0" effort="0" velocity="0" />
  </joint>
    <joint name="joint_LeftSkeletonMiddle2" type="revolute">
        <origin xyz="0.0036 0.0074761 0.0074414" rpy="-0.75647 0 0" />
    <parent link="link_LeftSkeletonMiddle1" />
    <child link="link_LeftSkeletonMiddle2" />
    <axis xyz="1 0 0" />
    <limit lower="0" upper="0" effort="0" velocity="0" />
  </joint>
    <joint name="joint_LeftSkeletonMiddle3" type="revolute">
        <origin xyz="0 0.043889 0.062046" rpy="0.46849 0 0" />
    <parent link="link_LeftSkeletonMiddle2" />
    <child link="link_LeftSkeletonMiddle3" />
    <axis xyz="1 0 0" />
    <limit lower="0" upper="0" effort="0" velocity="0" />
  </joint>
    <joint name="joint_LeftSkeletonMiddle4" type="revolute">
        <origin xyz="0 0.064952 0.0375" rpy="1.2217 0 0" />
    <parent link="link_LeftSkeletonMiddle3" />
    <child link="link_LeftSkeletonMiddle4" />
    <axis xyz="1 0 0" />
    <limit lower="0" upper="0" effort="0" velocity="0" />
  </joint>
    <joint name="joint_LeftSkeletonRing1" type="revolute">
        <origin xyz="-0.020849 -0.002512 0.0005" rpy="0 0 0.1199" />
    <parent link="link_LeftSkeletonBase" />
    <child link="link_LeftSkeletonRing1" />
    <axis xyz="0 0 1" />
    <limit lower="0" upper="0" effort="0" velocity="0" />
  </joint>
    <joint name="joint_LeftSkeletonRing2" type="revolute">
        <origin xyz="0.0036 0.0074761 0.0074414" rpy="-0.75647 0 0" />
    <parent link="link_LeftSkeletonRing1" />
    <child link="link_LeftSkeletonRing2" />
    <axis xyz="1 0 0" />
    <limit lower="0" upper="0" effort="0" velocity="0" />
  </joint>
    <joint name="joint_LeftSkeletonRing3" type="revolute">
        <origin xyz="0 0.043889 0.062046" rpy="0.46849 0 0" />
    <parent link="link_LeftSkeletonRing2" />
    <child link="link_LeftSkeletonRing3" />
    <axis xyz="1 0 0" />
    <limit lower="0" upper="0" effort="0" velocity="0" />
  </joint>
    <joint name="joint_LeftSkeletonRing4" type="revolute">
        <origin xyz="0 0.064952 0.0375" rpy="1.2217 0 0" />
    <parent link="link_LeftSkeletonRing3" />
    <child link="link_LeftSkeletonRing4" />
    <axis xyz="1 0 0" />
    <limit lower="0" upper="0" effort="0" velocity="0" />
  </joint>
    <joint name="joint_LeftSkeletonPinky1" type="revolute">
        <origin xyz="-0.042036 -0.0050645 -0.0016681" rpy="0 -0.17453 0.1199" />
    <parent link="link_LeftSkeletonBase" />
    <child link="link_LeftSkeletonPinky1" />
    <axis xyz="0 0 1" />
    <limit lower="0" upper="0" effort="0" velocity="0" />
  </joint>
    <joint name="joint_LeftSkeletonPinky2" type="revolute">
        <origin xyz="0.0036 0.0074761 0.0074414" rpy="-0.75647 0 0" />
    <parent link="link_LeftSkeletonPinky1" />
    <child link="link_LeftSkeletonPinky2" />
    <axis xyz="1 0 0" />
    <limit lower="0" upper="0" effort="0" velocity="0" />
  </joint>
    <joint name="joint_LeftSkeletonPinky3" type="revolute">
        <origin xyz="0 0.043889 0.062046" rpy="0.46849 0 0" />
    <parent link="link_LeftSkeletonPinky2" />
    <child link="link_LeftSkeletonPinky3" />
    <axis xyz="1 0 0" />
    <limit lower="0" upper="0" effort="0" velocity="0" />
  </joint>
    <joint name="joint_LeftSkeletonPinky4" type="revolute">
        <origin xyz="0 0.064952 0.0375" rpy="1.2217 0 0" />
    <parent link="link_LeftSkeletonPinky3" />
    <child link="link_LeftSkeletonPinky4" />
    <axis xyz="1 0 0" />
    <limit lower="0" upper="0" effort="0" velocity="0" />
  </joint>

    
    <joint name="right_thumb_tip_joint" type="fixed">
        <origin xyz="-0.0026 0.005 -0.027" rpy="0 0 0" />
        <parent link="link_RightSkeletonThumb4" />
        <child link="right_thumb_tip" />
    </joint>
    <joint name="right_index_tip_joint" type="fixed">
        <origin xyz="-0.0026 0.005 -0.027" rpy="0 0 0" />
        <parent link="link_RightSkeletonIndex4" />
        <child link="right_index_tip" />
    </joint>
    <joint name="right_middle_tip_joint" type="fixed">
        <origin xyz="-0.0026 0.005 -0.027" rpy="0 0 0" />
        <parent link="link_RightSkeletonMiddle4" />
        <child link="right_middle_tip" />
    </joint>
    <joint name="right_ring_tip_joint" type="fixed">
        <origin xyz="-0.0026 0.005 -0.027" rpy="0 0 0" />
        <parent link="link_RightSkeletonRing4" />
        <child link="right_ring_tip" />
    </joint>
    <joint name="right_pinky_tip_joint" type="fixed">
        <origin xyz="-0.0026 0.005 -0.027" rpy="0 0 0" />
        <parent link="link_RightSkeletonPinky4" />
        <child link="right_pinky_tip" />
    </joint>
    <joint name="left_thumb_tip_joint" type="fixed">
        <origin xyz="-0.0026 0.005 -0.027" rpy="0 0 0" />
        <parent link="link_LeftSkeletonThumb4" />
        <child link="left_thumb_tip" />
    </joint>
    <joint name="left_index_tip_joint" type="fixed">
        <origin xyz="-0.0026 0.005 -0.027" rpy="0 0 0" />
        <parent link="link_LeftSkeletonIndex4" />
        <child link="left_index_tip" />
    </joint>
    <joint name="left_middle_tip_joint" type="fixed">
        <origin xyz="-0.0026 0.005 -0.027" rpy="0 0 0" />
        <parent link="link_LeftSkeletonMiddle4" />
        <child link="left_middle_tip" />
    </joint>
    <joint name="left_ring_tip_joint" type="fixed">
        <origin xyz="-0.0026 0.005 -0.027" rpy="0 0 0" />
        <parent link="link_LeftSkeletonRing4" />
        <child link="left_ring_tip" />
    </joint>
    <joint name="left_pinky_tip_joint" type="fixed">
        <origin xyz="-0.0026 0.005 -0.027" rpy="0 0 0" />
        <parent link="link_LeftSkeletonPinky4" />
        <child link="left_pinky_tip" />
    </joint>
    <joint name="joint_right_hand" type="fixed">
        <origin xyz="0.0097906 -0.039958 -0.03" rpy="0 0 0" />
        <parent link="link_RightSkeletonBase" />
        <child link="right_hand" />
    </joint>
    <joint name="joint_left_hand" type="fixed">
        <origin xyz="-0.0097906 -0.039958 -0.03" rpy="0 0 0" />
        <parent link="link_LeftSkeletonBase" />
        <child link="left_hand" />
    </joint>
  <link
    name="Rgamepadbase">
    <inertial>
      <origin
        xyz="0.0031077 0.021669 0.0084989"
        rpy="0 0 0" />
      <mass
        value="0.02843" />
      <inertia
        ixx="1.9843E-05"
        ixy="-3.9906E-07"
        ixz="-5.063E-07"
        iyy="9.7174E-06"
        iyz="-3.9711E-06"
        izz="2.0273E-05" />
    </inertial>
    <visual>
      <origin
        xyz="0 0 0"
        rpy="0 0 0" />
      <geometry>
        <mesh
          filename="package://io_mocap/description/meshes/Rgamepadbase.STL" />
      </geometry>
      <material
        name="">
        <color
          rgba="0.79216 0.81961 0.93333 1" />
      </material>
    </visual>
  </link>
  <link
    name="Rgamepad">
    <inertial>
      <origin
        xyz="0.00893 -0.041415 -0.020604"
        rpy="0 0 0" />
      <mass
        value="0.021713" />
      <inertia
        ixx="4.7609E-06"
        ixy="-3.6668E-07"
        ixz="-2.4931E-07"
        iyy="1.9878E-06"
        iyz="-1.3791E-06"
        izz="3.9524E-06" />
    </inertial>
  </link>
  <joint name="Rgamebase_joint" type="fixed" >
    <origin xyz="0.0097906 -0.039958 0.0172" rpy="0 0 1.4509" />
    <parent link="link_RightSkeletonBase" />
    <child link="Rgamepadbase" />
  </joint>
  <joint
    name="Rgamepad_joint"
    type="fixed">
    <origin
      xyz="-0.035927 0.0795 0.020469"
      rpy="2.8795 0.79734 -2.0538" />
    <parent
      link="Rgamepadbase" />
    <child
      link="Rgamepad" />
    <axis
      xyz="0 0 0" />
  </joint>
  <link
    name="Lgamepadbase">
    <inertial>
      <origin
        xyz="0.0030876 -0.021663 0.0084916"
        rpy="0 0 0" />
      <mass
        value="0.028422" />
      <inertia
        ixx="1.9837E-05"
        ixy="3.9965E-07"
        ixz="-5.0714E-07"
        iyy="9.714E-06"
        iyz="3.9687E-06"
        izz="2.0269E-05" />
    </inertial>
    <visual>
      <origin
        xyz="0 0 0"
        rpy="0 0 0" />
      <geometry>
        <mesh
          filename="package://io_mocap/description/meshes/Lgamepadbase.STL" />
      </geometry>
      <material
        name="">
        <color
          rgba="0.79216 0.81961 0.93333 1" />
      </material>
    </visual>
  </link>
  <link
    name="Lgamepad">
    <inertial>
      <origin
        xyz="0.11839 0.017119 0.1301"
        rpy="0 0 0" />
      <mass
        value="0.021713" />
      <inertia
        ixx="2.7073E-06"
        ixy="1.5308E-06"
        ixz="-7.3415E-07"
        iyy="3.4923E-06"
        iyz="6.6424E-07"
        izz="4.5015E-06" />
    </inertial>
  </link>
<joint name="Lgamebase_joint" type="fixed" >
	<origin xyz="-0.0097906 -0.039958 0.0172" rpy="0 0 1.6907" />
	<parent link="link_LeftSkeletonBase" />
	<child link="Lgamepadbase" />
</joint>
<joint
	name="Lgamepad_joint"
	type="fixed">
	<origin
			xyz="-0.035948 -0.079502 0.020469"
			rpy="2.8795 -0.79734 -1.0878" />
	<parent
			link="Lgamepadbase" />
	<child
			link="Lgamepad" />
	<axis
    xyz="0 0 0" />
</joint>
</robot>
